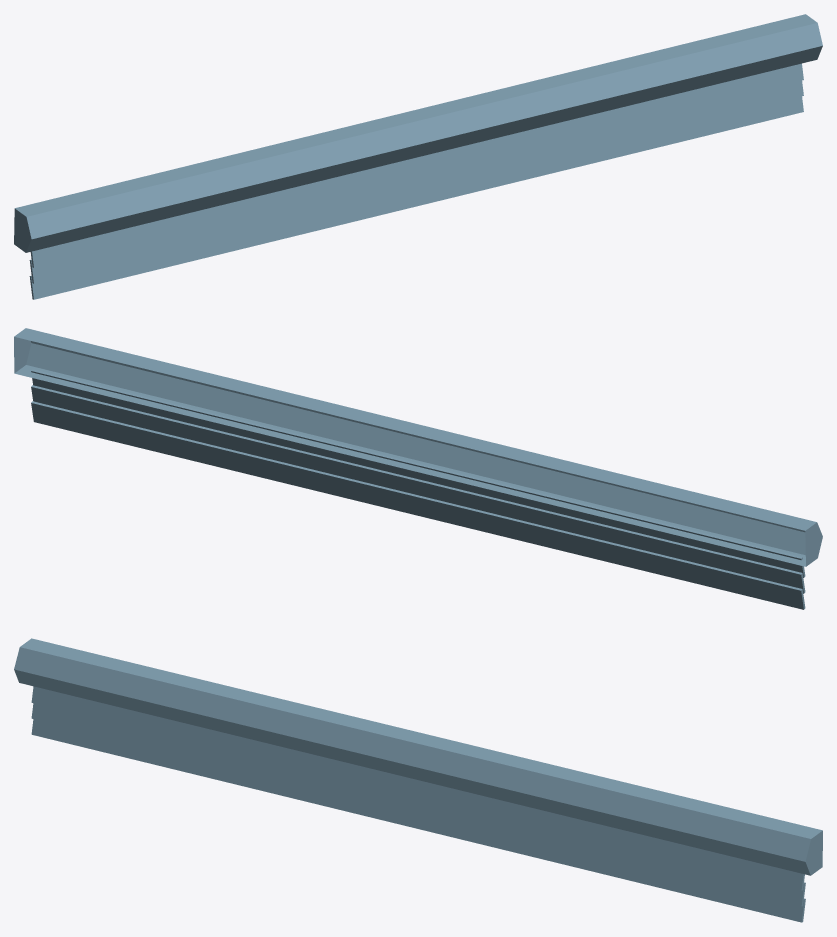
File: Blinds_4.fbx
3 views of the same model, one above another, from view 1: azimuth 30°, elevation 25°; view 2: azimuth 150°, elevation 25°; view 3: azimuth 330°, elevation 25° (orthographic).
Parts seen in each view (by area): view 1: Blinds_4; view 2: Blinds_4; view 3: Blinds_4.
Part boxes in pixels (left/top/right/bottom): Blinds_4: left=14, top=14, right=822, bottom=299; Blinds_4: left=14, top=328, right=822, bottom=609; Blinds_4: left=14, top=638, right=822, bottom=922.
Bounding box in the file's own units: 370 × 14 × 39.53.
